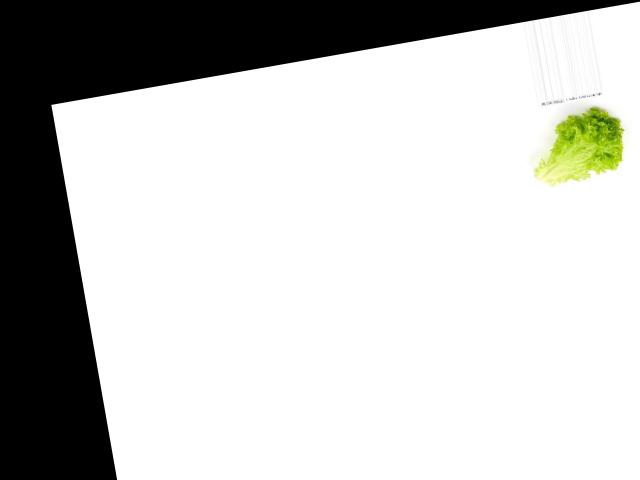lettuce: (525, 102, 635, 191)
